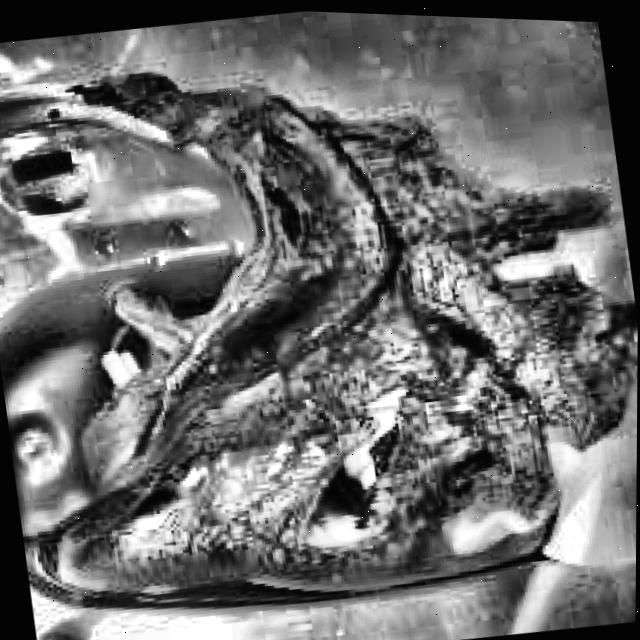tail_lamp: (24, 28, 635, 628)
